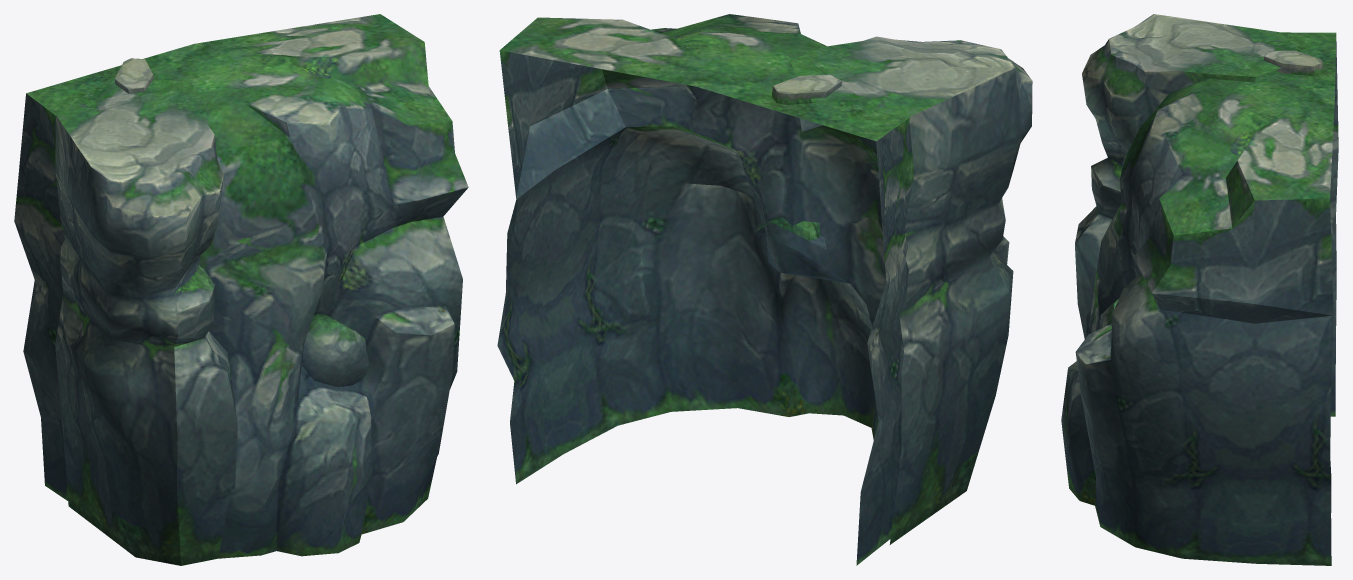
File: WSD_Item_12.FBX
The picture shows the model from 3 angles, left to right: view 1: azimuth 30°, elevation 25°; view 2: azimuth 150°, elevation 25°; view 3: azimuth 270°, elevation 25°; orthographic projection. The views are drawn at different scales.
Visible parts, largest first — view 1: WSD_Item_12; view 2: WSD_Item_12; view 3: WSD_Item_12.
Boxes of the visible parts, <box> form: WSD_Item_12: <box>14,14,468,565</box>; WSD_Item_12: <box>497,14,1032,565</box>; WSD_Item_12: <box>1061,14,1338,565</box>.
Bounding box in the file's own units: 22.55 × 22.53 × 14.37.
1 material, 1 textured.
